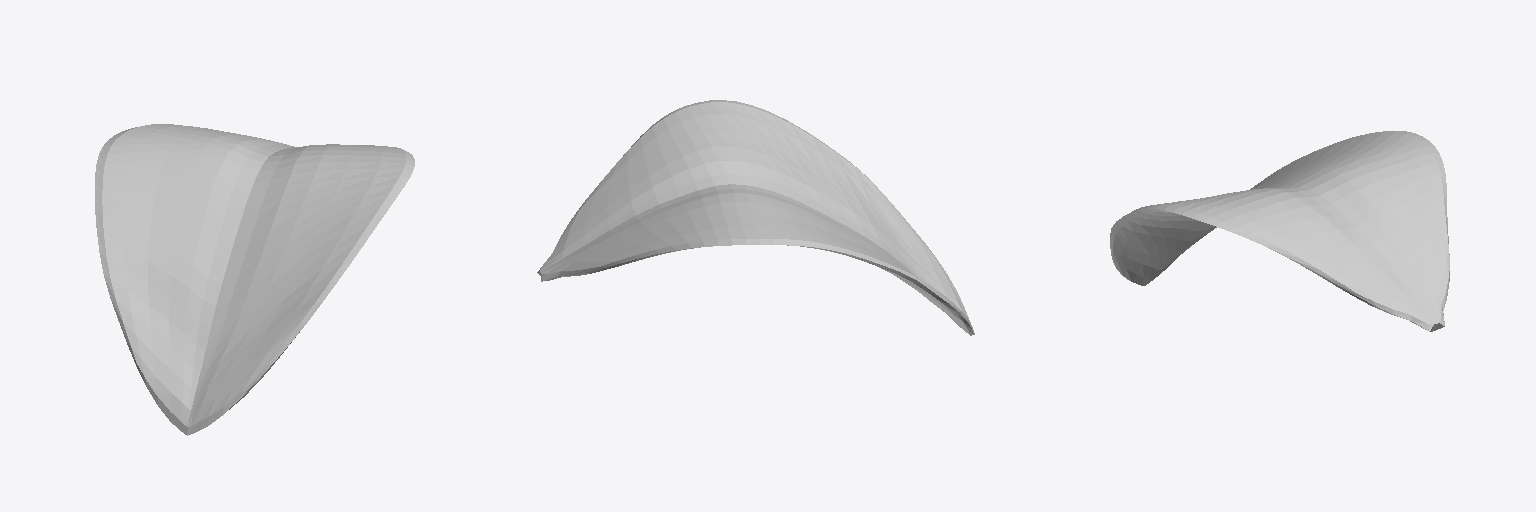
Rendered from leaf.obj.
3 renders of one model, left to right at view 1: azimuth 30°, elevation 25°; view 2: azimuth 150°, elevation 25°; view 3: azimuth 270°, elevation 25°, orthographic.
Visible parts, largest first — view 1: stem__0; view 2: stem__0; view 3: stem__0.
Part boxes in pixels (left/top/right/bottom): stem__0: left=95, top=124, right=414, bottom=435; stem__0: left=537, top=100, right=974, bottom=335; stem__0: left=1110, top=131, right=1449, bottom=331.
Bounding box in the file's own units: 0.9238 × 0.541 × 0.872.